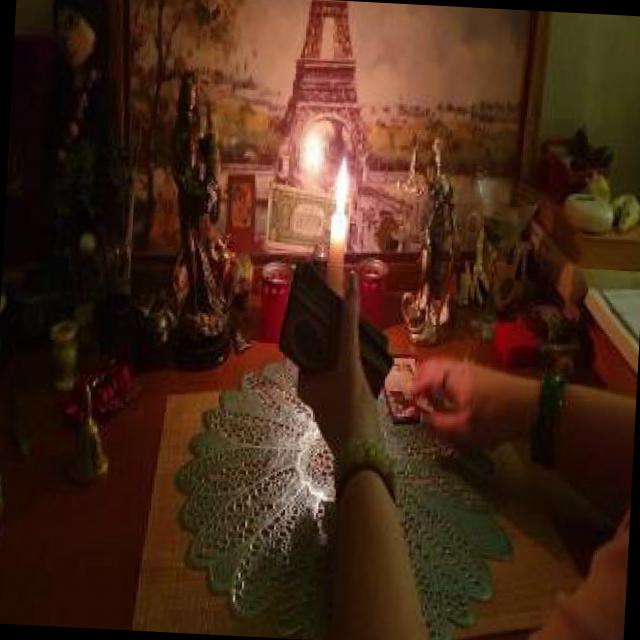fire: (327, 154, 356, 223)
